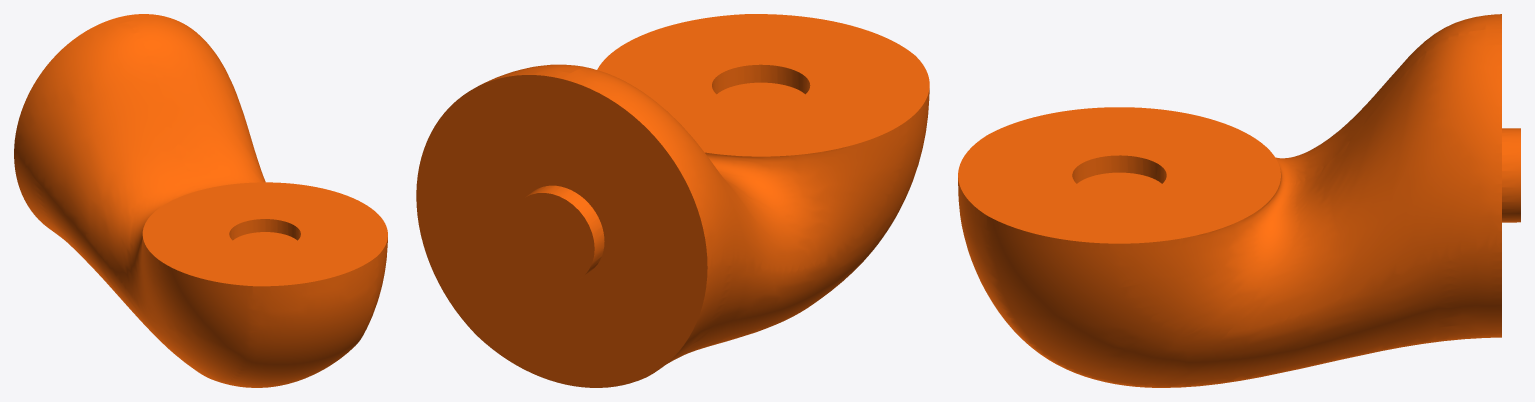
The picture shows the model from 3 angles, left to right: view 1: azimuth 30°, elevation 25°; view 2: azimuth 150°, elevation 25°; view 3: azimuth 270°, elevation 25°; orthographic projection. The views are drawn at different scales.
Visible parts, largest first — view 1: link_1; view 2: link_1; view 3: link_1.
Part boxes in pixels (left/top/right/bottom): link_1: left=14, top=14, right=387, bottom=387; link_1: left=416, top=14, right=929, bottom=387; link_1: left=958, top=14, right=1520, bottom=387.
Bounding box in the file's own units: 0.171 × 0.2012 × 0.298.
